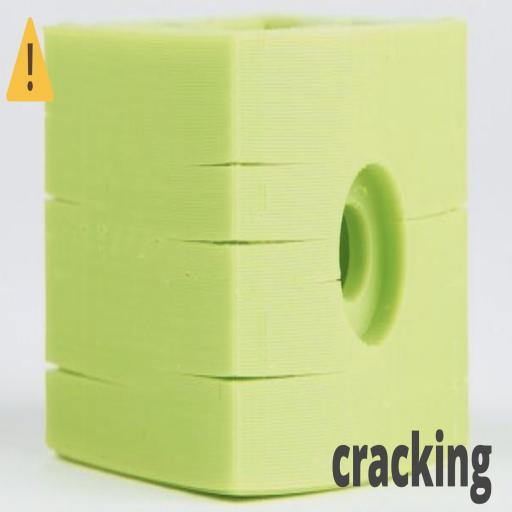cracks: (178, 124, 316, 425)
